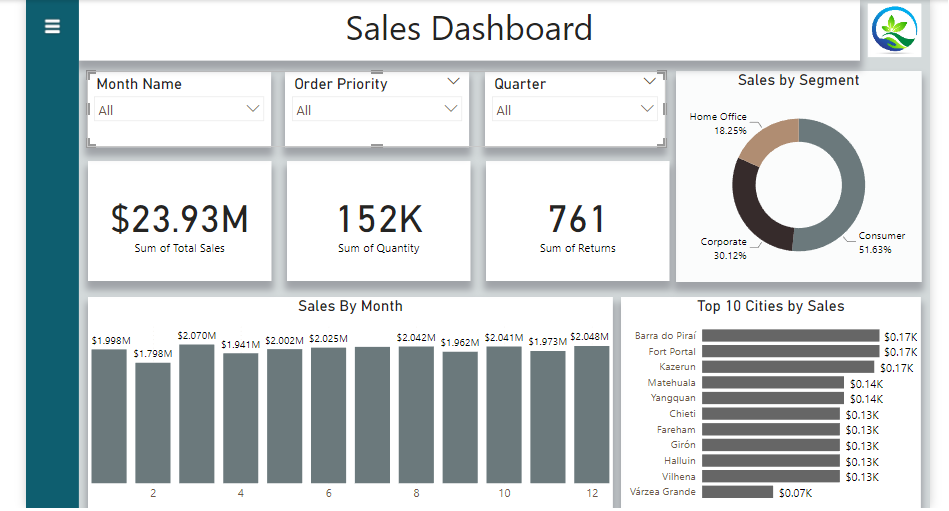

What the dashboard file says about the page in this screenshot:
{"tool":"powerbi","page":{"name":"Sales Overview","canvas":[1280,720],"ordinal":0},"visuals":[{"type":"textbox","title":"Menu BG","box":[0,0,75.1,720],"z":0,"group":"g5"},{"type":"image","box":[1182,0,97.8,86.5],"z":0,"group":"g4"},{"type":"group","id":"g1","title":"Charts","box":[87.3,100.8,1180.9,619.8],"z":0},{"type":"slicer","title":"Region","fields":{"Values":["Sales.Quarter"]},"box":[651.8,100.8,255.3,107.5],"z":0,"group":"g3"},{"type":"card","title":"Sum of Sales","fields":{"Values":["Sum(Sales.Returns)"]},"box":[651.7,228.5,260,170],"z":0,"group":"g2"},{"type":"clusteredBarChart","title":"Top 10 Cities by Sales","fields":{"Category":["Sales.City"],"Y":["Sum(Sales.Total Sales)"]},"box":[843.2,421.6,425,299],"z":0,"group":"g1"},{"type":"group","id":"g2","title":"Cards","box":[87.3,228.5,824.4,170],"z":500},{"type":"textbox","box":[75.1,0,1106.9,86.5],"z":1000,"group":"g4"},{"type":"actionButton","title":"Menu","box":[20,20,35,35],"z":1000,"group":"g5"},{"type":"group","id":"g3","title":"Filters","box":[87,100.8,820.1,108],"z":1000},{"type":"slicer","title":"Order","fields":{"Values":["Sales.Order Priority"]},"box":[367.7,101.1,260.8,107.7],"z":1000,"group":"g3"},{"type":"card","title":"Sum of Quantity","fields":{"Values":["Sum(Sales.Quantity)"]},"box":[369.5,228.5,260,170],"z":1000,"group":"g2"},{"type":"clusteredColumnChart","title":"Sales By Month","fields":{"Y":["Sum(Sales.Total Sales)"],"Category":["Sales.Month"]},"box":[87.3,421.6,744.1,299],"z":1000,"group":"g1"},{"type":"donutChart","title":"Sales by Segment","fields":{"Category":["Sales.Segment"],"Y":["Sum(Sales.Total Sales)"]},"box":[920.5,100.8,347.7,299],"z":2000,"group":"g1"},{"type":"slicer","title":"Month","fields":{"Values":["Sales.Month"]},"box":[87,101.1,260.8,107.7],"z":2000,"group":"g3"},{"type":"card","title":"Sum of Profit","fields":{"Values":["Sum(Sales.Total Sales)"]},"box":[87.3,228.5,260,170],"z":2000,"group":"g2"},{"type":"group","id":"g4","title":"Header","box":[75.1,0,1204.7,86.5],"z":3000},{"type":"group","id":"g5","title":"Menu Bar","box":[0,0,75.1,720],"z":5000}]}

Visuals, with their boxes on the page's 1280x720 design canvas (x1, y1, x2, y2). These are canvas units, not pixel positions in the 949x511 screenshot, which may show the page scaled, cropped or inside an application window:
"Menu BG" textbox: 0 0 75 720
image: 1182 0 1280 86
"Charts" group: 87 101 1268 721
"Region" slicer: 652 101 907 208
"Sum of Sales" card: 652 228 912 398
"Top 10 Cities by Sales" clusteredBarChart: 843 422 1268 721
"Cards" group: 87 228 912 398
textbox: 75 0 1182 86
"Menu" actionButton: 20 20 55 55
"Filters" group: 87 101 907 209
"Order" slicer: 368 101 628 209
"Sum of Quantity" card: 370 228 630 398
"Sales By Month" clusteredColumnChart: 87 422 831 721
"Sales by Segment" donutChart: 920 101 1268 400
"Month" slicer: 87 101 348 209
"Sum of Profit" card: 87 228 347 398
"Header" group: 75 0 1280 86
"Menu Bar" group: 0 0 75 720
